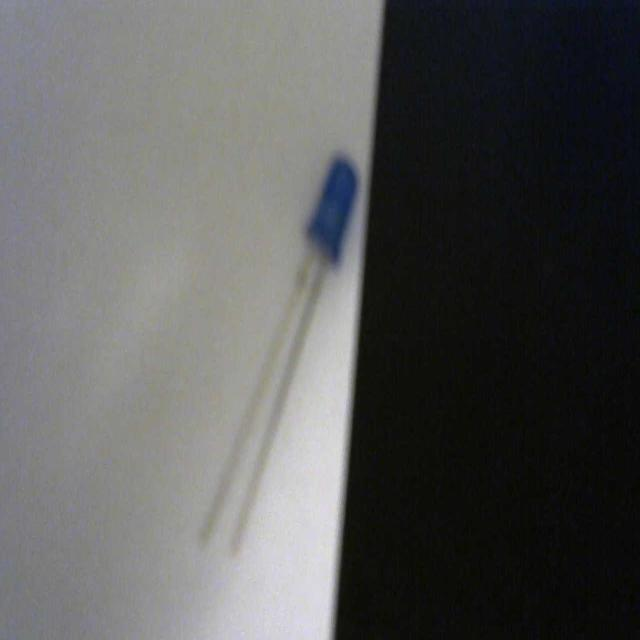blue_led: (307, 155, 357, 264)
